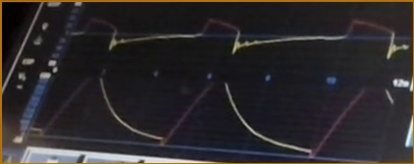Accumulation Flow: (72, 13, 410, 61)
Volume: (31, 77, 392, 158)
